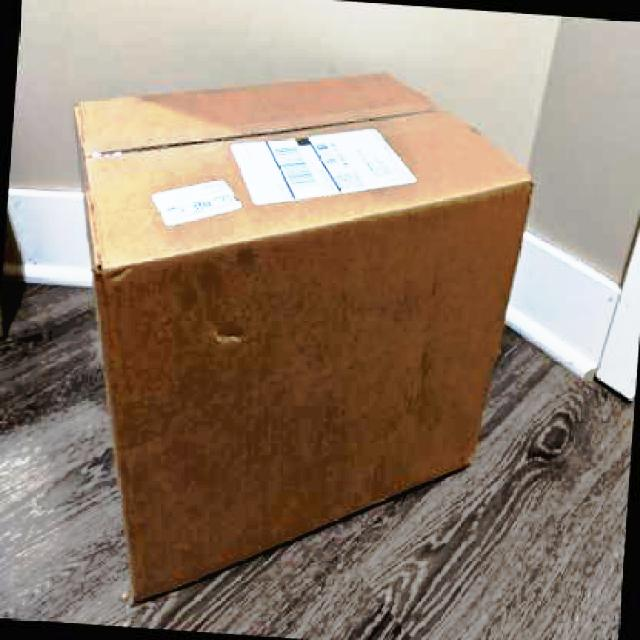Box: (34, 46, 546, 632)
